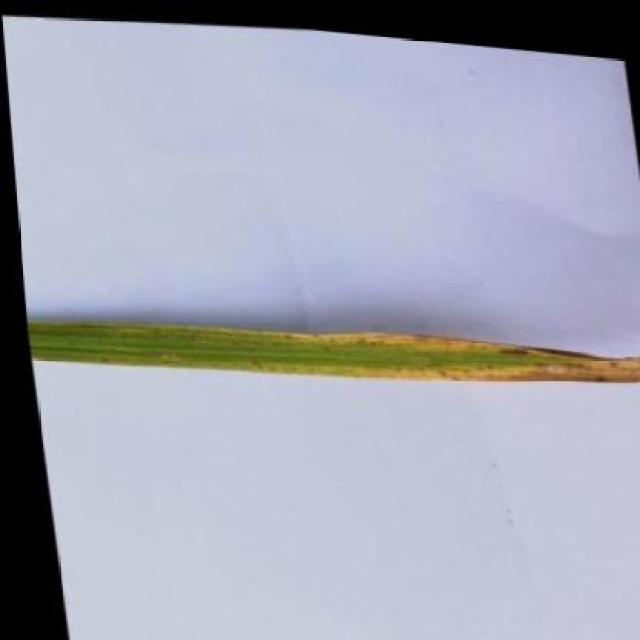Rice False Smut: (21, 300, 640, 411)
